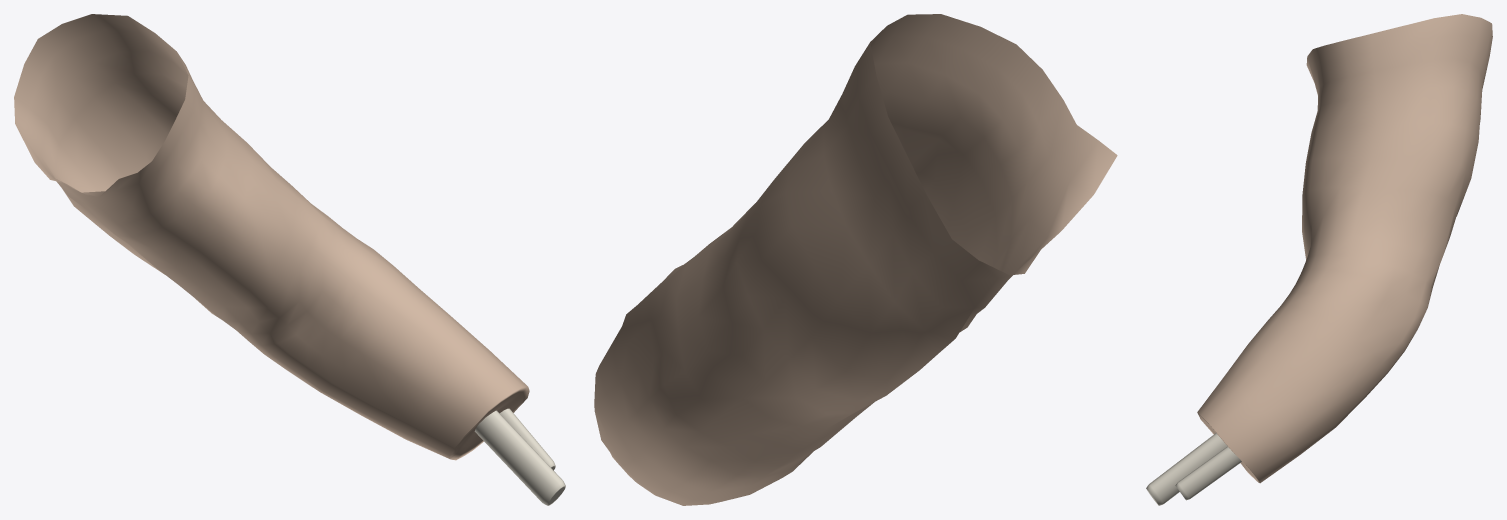
Rendered from Cut_off_arm.fbx.
The picture shows the model from 3 angles, left to right: view 1: azimuth 30°, elevation 25°; view 2: azimuth 150°, elevation 25°; view 3: azimuth 270°, elevation 25°; orthographic projection. The views are drawn at different scales.
Visible parts, largest first — view 1: Arm_cut__off; view 2: Arm_cut__off; view 3: Arm_cut__off.
Part boxes in pixels (left/top/right/bottom): Arm_cut__off: left=14, top=14, right=565, bottom=505; Arm_cut__off: left=594, top=14, right=1117, bottom=505; Arm_cut__off: left=1146, top=14, right=1492, bottom=505.
Bounding box in the file's own units: 2.91 × 3.22 × 2.69.
